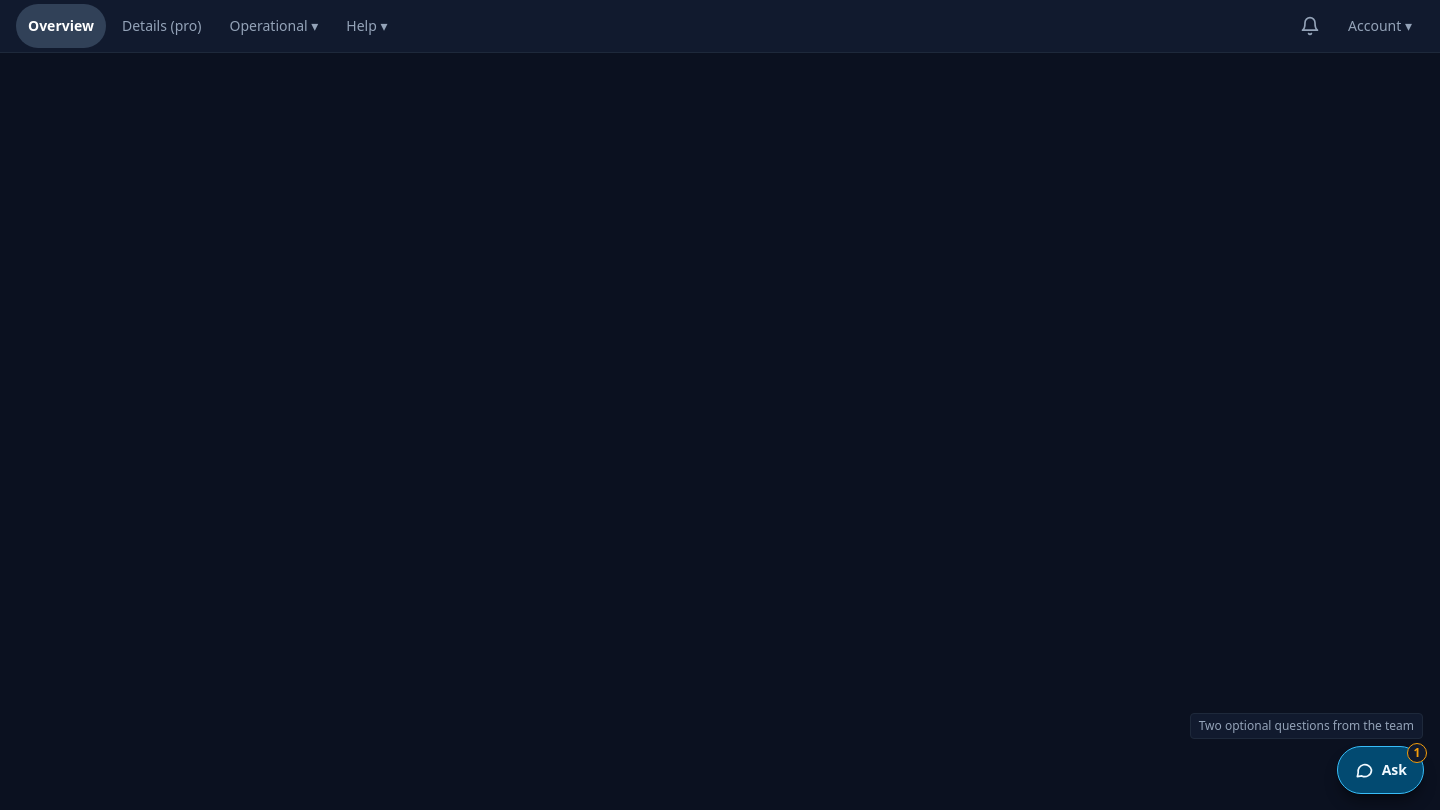
Test: Scenario: Answer one question › a refused answer says why and keeps the card
Click the button with aria-label "Ask (two optional questions waiting)": (1380, 770) [1337,746,1424,794]
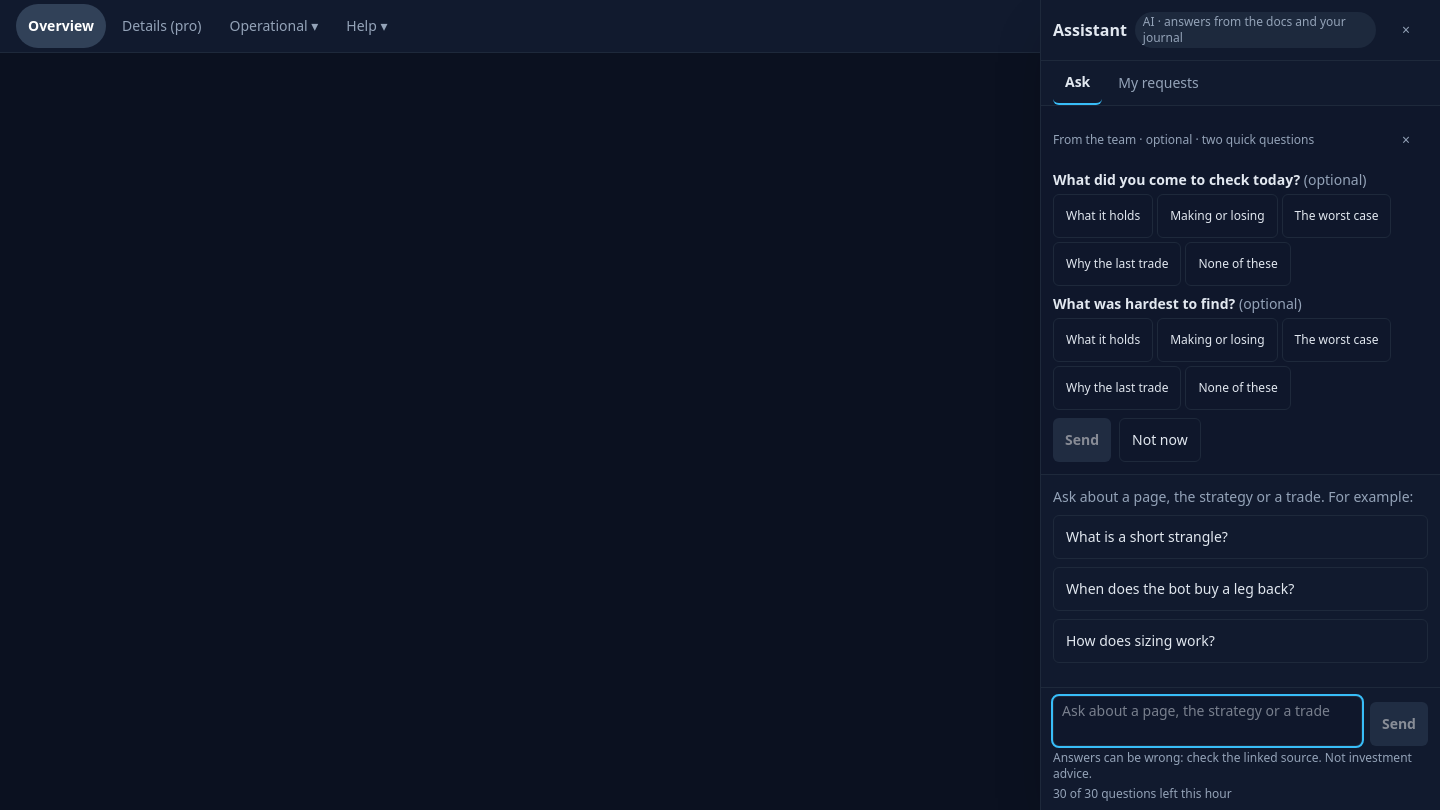
Click the button "Why the last trade" below "What did you come to check today?": (1117, 264) [1053,242,1181,286]
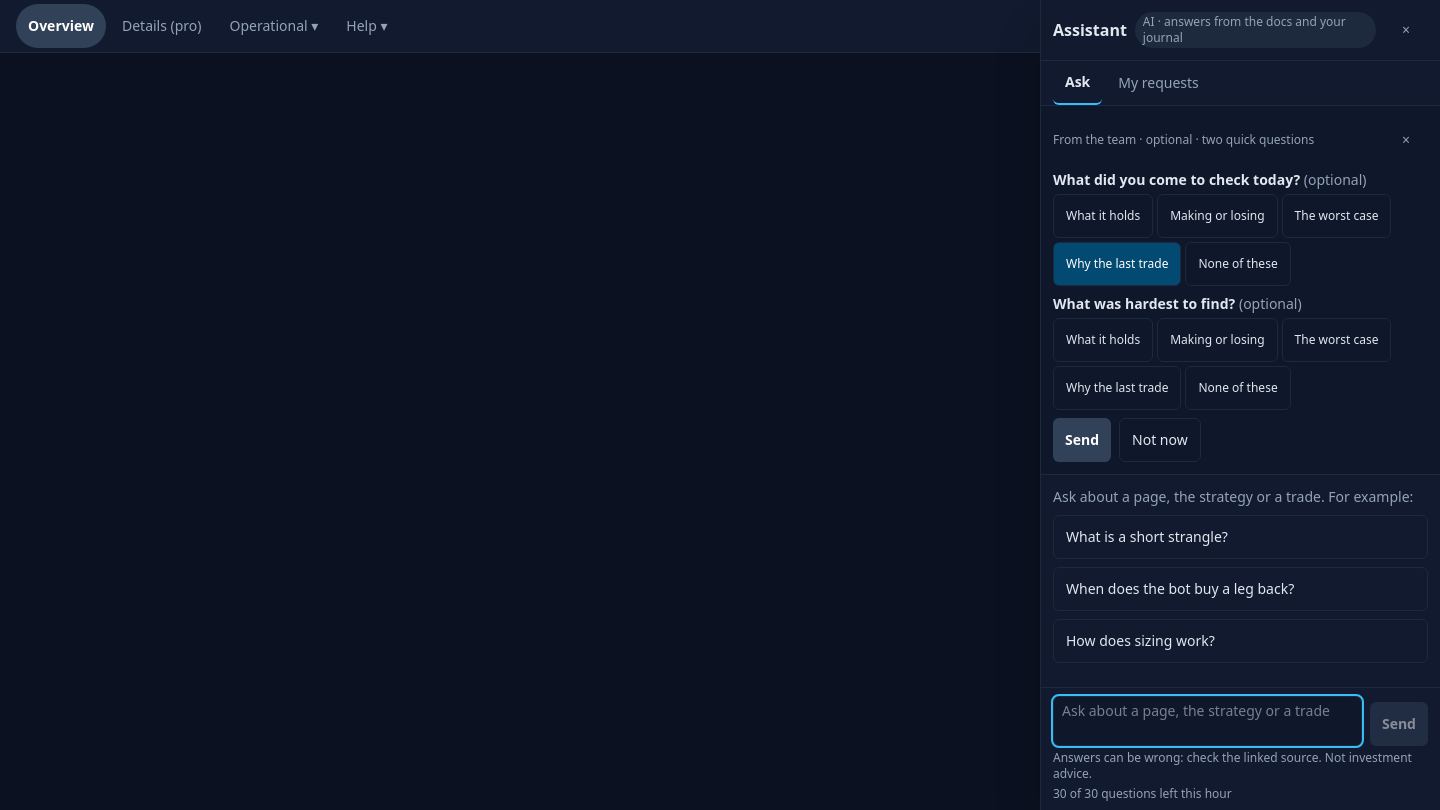
Click the button "Send" below "What was hardest to find?": (1082, 440) [1053,418,1111,462]
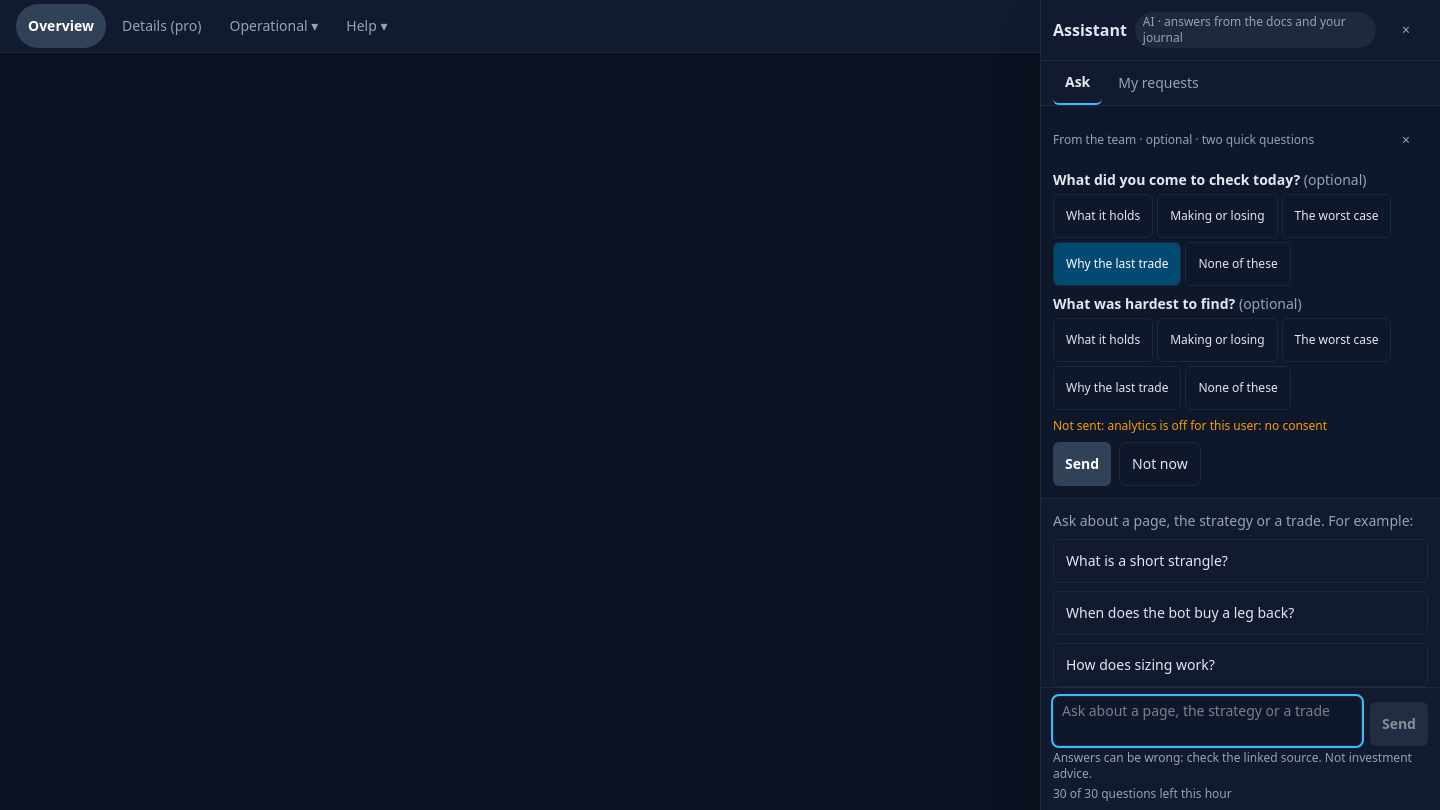
Check: the message shows "Not sent", box [1053,417,1107,434]
